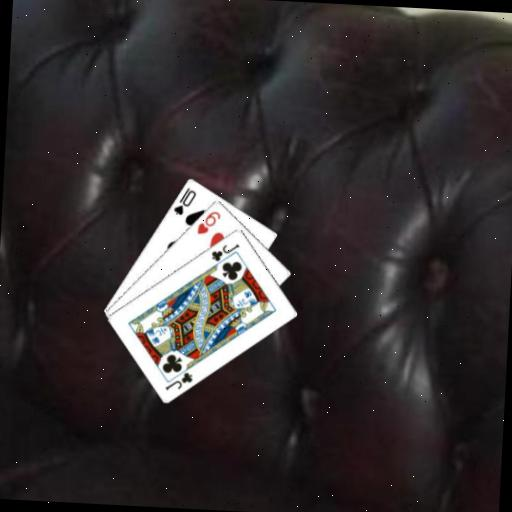10S: (170, 183, 198, 217)
6H: (194, 207, 222, 237)
JC: (162, 367, 195, 393), (208, 239, 241, 264)
